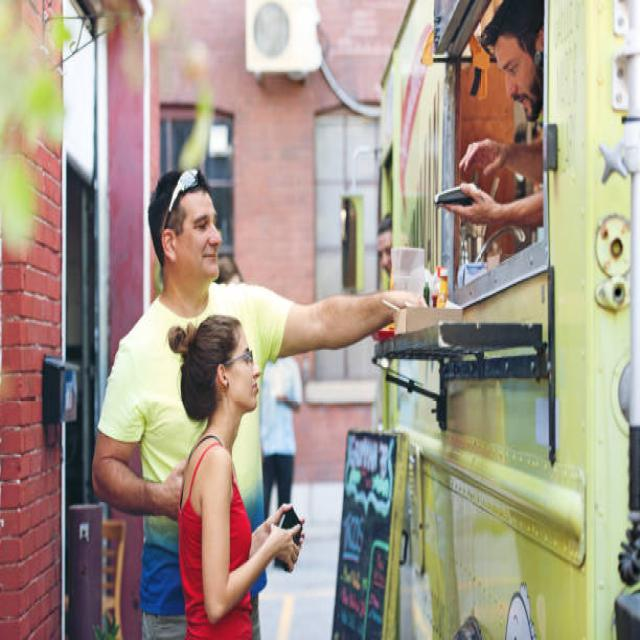Emperan: (288, 0, 640, 640)
